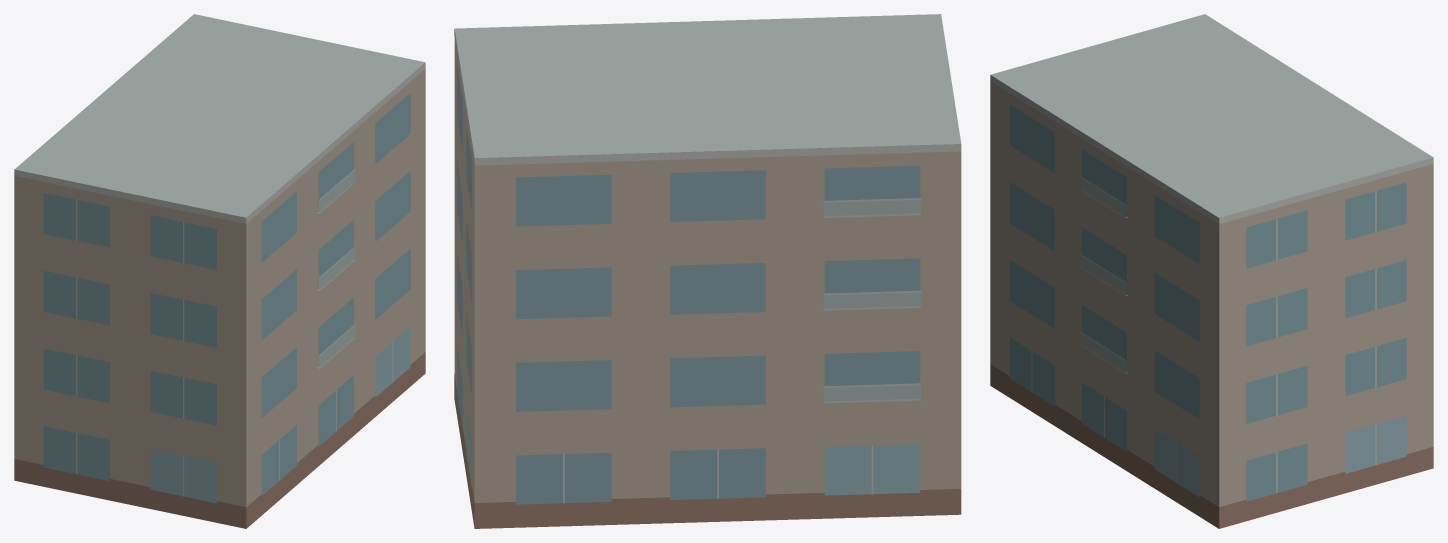
The model's file is survey-upis-32935449.glb.
The picture shows the model from 3 angles, left to right: view 1: azimuth 30°, elevation 25°; view 2: azimuth 150°, elevation 25°; view 3: azimuth 270°, elevation 25°; orthographic projection. The views are drawn at different scales.
Visible parts, largest first — view 1: survey-upis-32935449.tmp; view 2: survey-upis-32935449.tmp; view 3: survey-upis-32935449.tmp.
Boxes of the visible parts, bbox=[...] form: survey-upis-32935449.tmp: bbox=[14, 14, 425, 528]; survey-upis-32935449.tmp: bbox=[454, 14, 961, 528]; survey-upis-32935449.tmp: bbox=[990, 14, 1433, 528].
Bounding box in the file's own units: 17.02 × 12.09 × 15.63.
